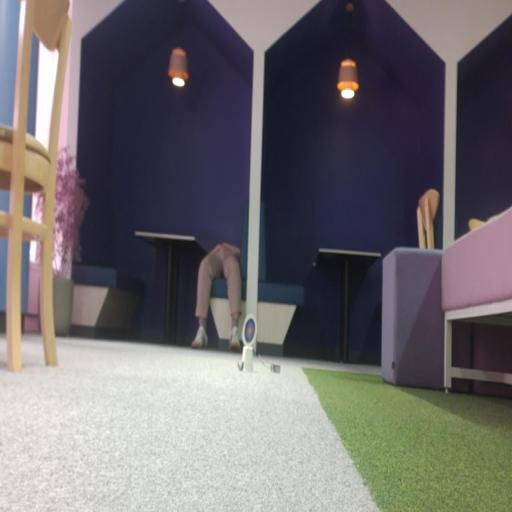target: (242, 314, 257, 346)
